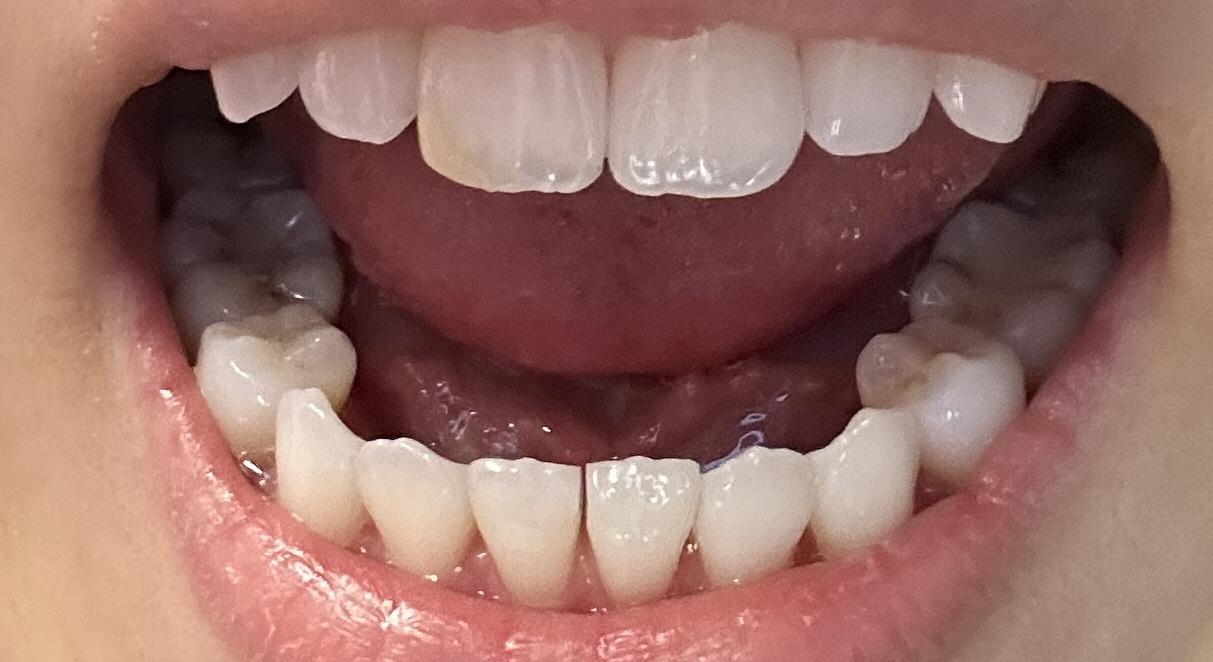teeth: (426, 28, 597, 189), (615, 41, 794, 194), (855, 321, 1025, 465), (912, 212, 1093, 343), (197, 310, 354, 456), (183, 187, 337, 318), (586, 460, 703, 610), (821, 414, 927, 562), (364, 443, 468, 584), (707, 450, 807, 588), (279, 389, 361, 542), (480, 467, 574, 599), (808, 45, 921, 151), (310, 35, 404, 142), (945, 60, 1030, 135), (220, 45, 288, 117)
